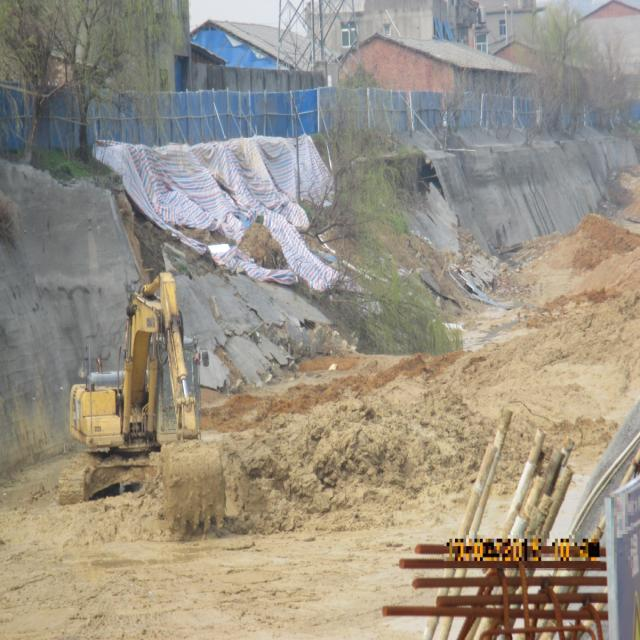excavator: (58, 271, 226, 535)
